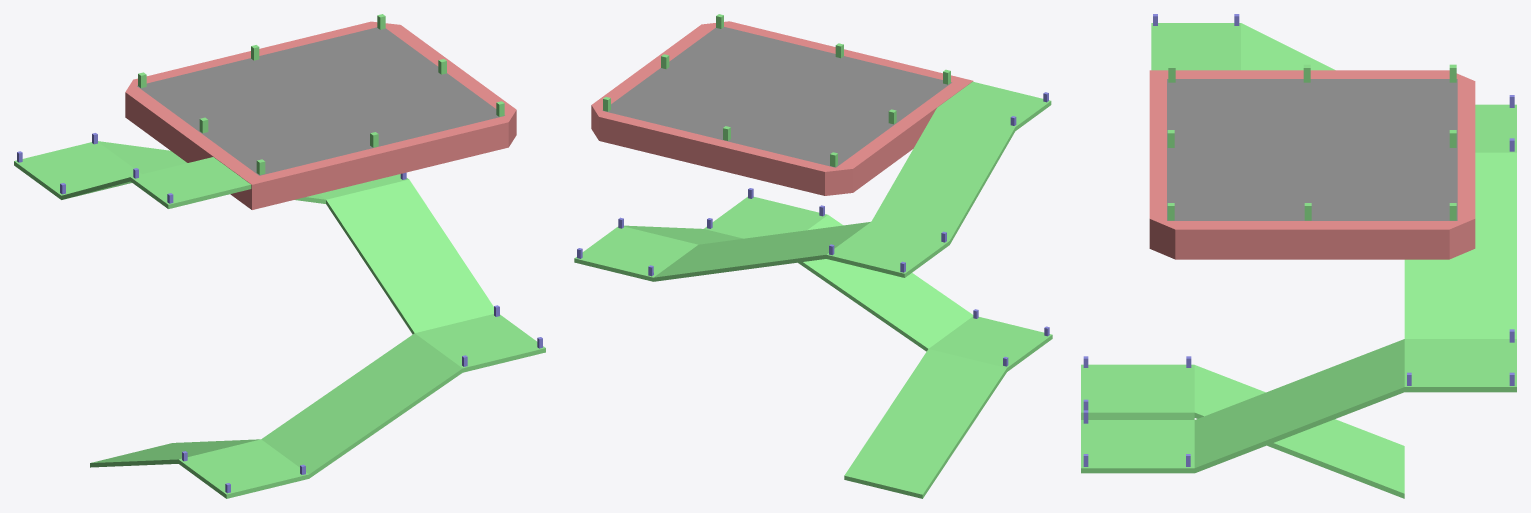
Rendered from L2fortress_02_s__Fort02_tower_stair.gltf.
The picture shows the model from 3 angles, left to right: view 1: azimuth 30°, elevation 25°; view 2: azimuth 150°, elevation 25°; view 3: azimuth 270°, elevation 25°; orthographic projection. The views are drawn at different scales.
Visible parts, largest first — view 1: Fort02_tower_stair; view 2: Fort02_tower_stair; view 3: Fort02_tower_stair.
Boxes of the visible parts, bbox=[...] form: Fort02_tower_stair: bbox=[14, 14, 545, 498]; Fort02_tower_stair: bbox=[574, 14, 1052, 498]; Fort02_tower_stair: bbox=[1081, 14, 1516, 498].
Size of the model in its own units: 4.84 by 4.65 by 4.3.
